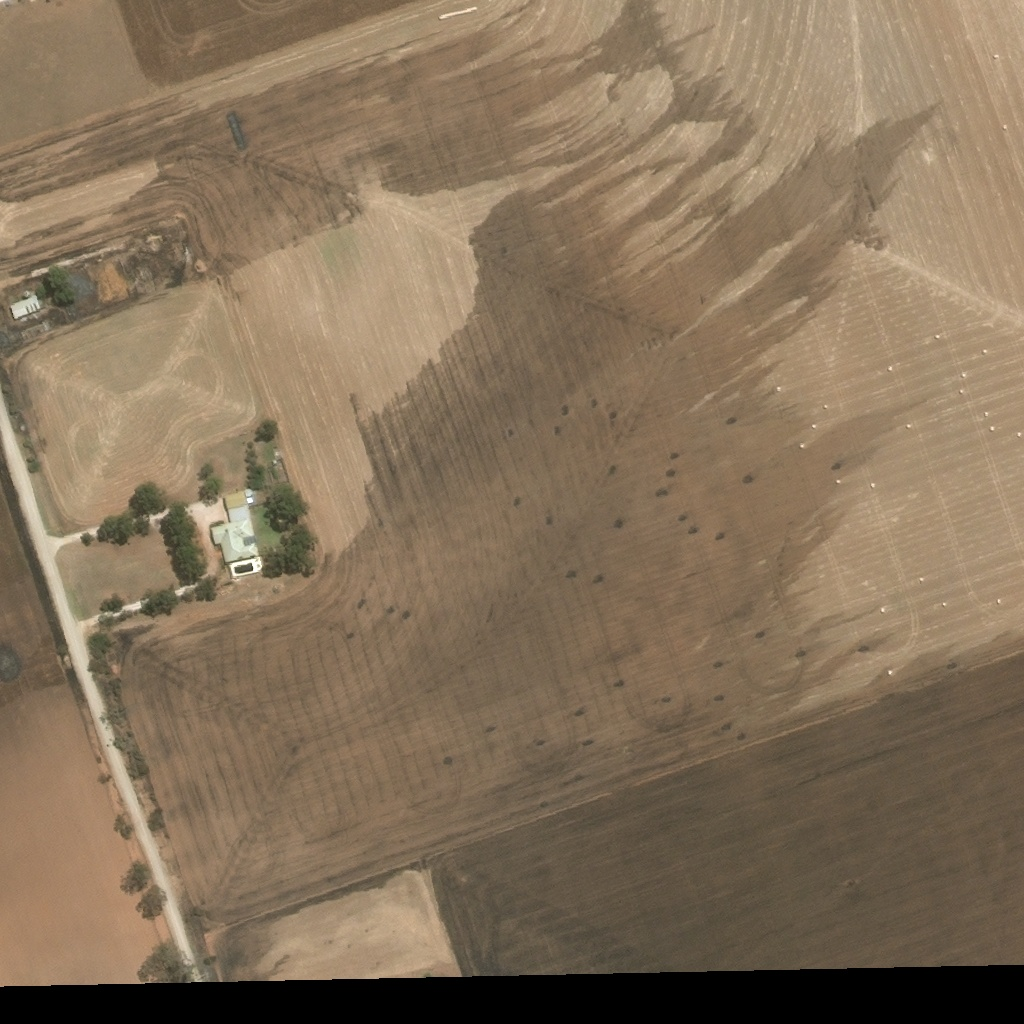0 no-damage: (209, 520, 257, 564), (9, 296, 42, 320), (223, 491, 246, 510), (227, 505, 250, 522), (244, 488, 252, 496), (22, 289, 30, 297), (245, 496, 252, 504)
